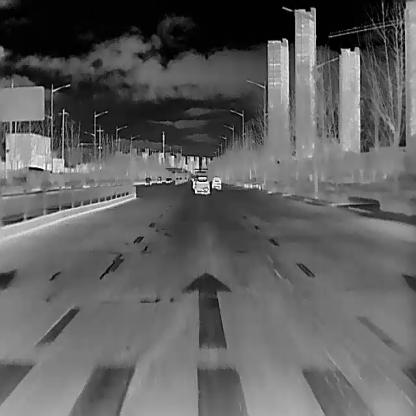car: (194, 175, 210, 194), (210, 174, 220, 188), (144, 176, 152, 184), (156, 175, 162, 183), (165, 176, 170, 182)
